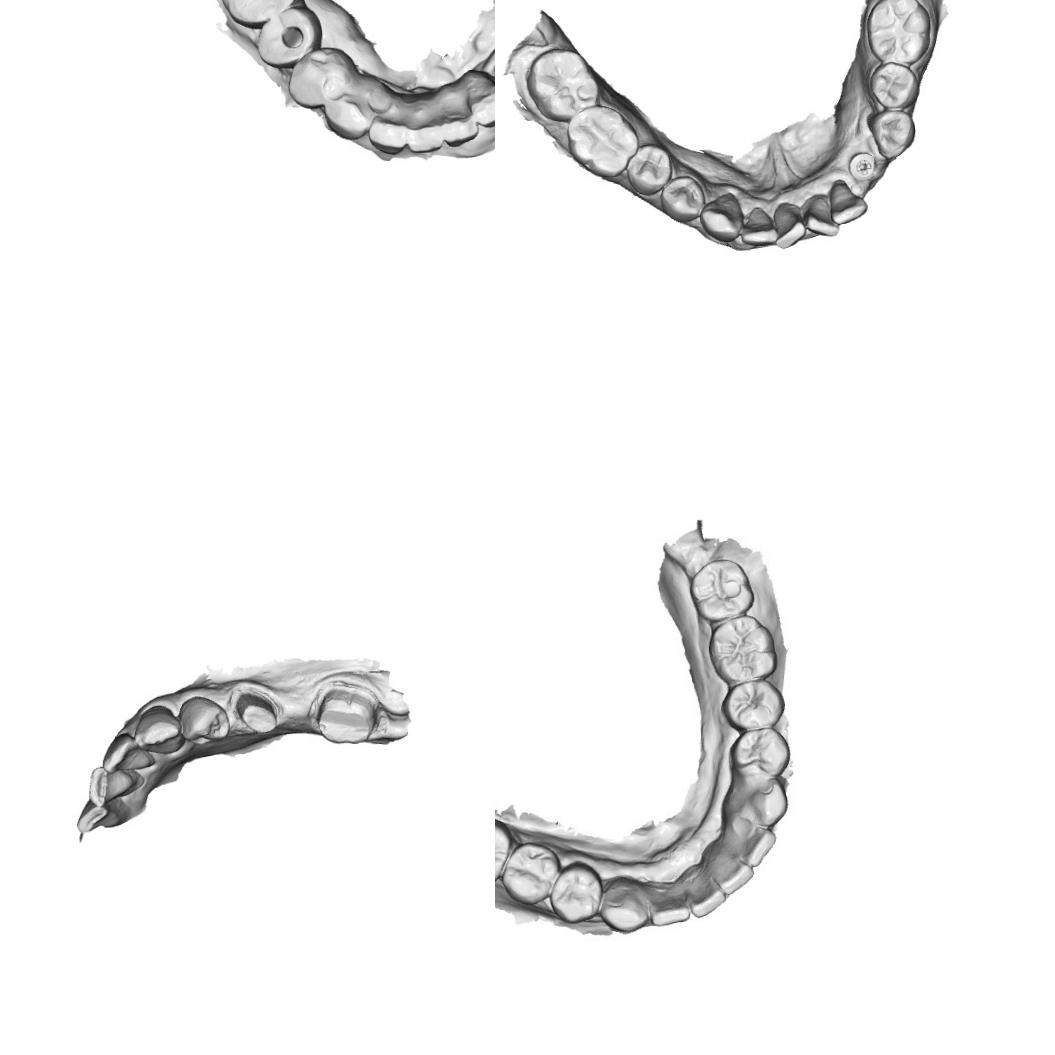canine: (733, 774, 794, 831), (602, 872, 648, 938), (320, 91, 376, 144), (130, 703, 185, 756), (696, 190, 744, 244)
crown: (306, 677, 380, 747), (228, 683, 280, 736)
implant_plus: (848, 151, 876, 182)
incisor: (718, 815, 778, 868), (84, 764, 144, 808), (100, 731, 156, 775), (707, 848, 750, 894), (827, 179, 869, 226), (650, 884, 690, 933), (686, 868, 726, 917), (802, 192, 841, 240), (75, 796, 124, 834), (366, 114, 408, 155), (738, 205, 780, 246), (771, 201, 806, 250), (402, 122, 447, 156), (443, 112, 478, 152), (473, 88, 495, 130)
molar: (526, 46, 602, 124), (564, 102, 640, 179), (706, 613, 781, 686), (863, 0, 933, 67), (691, 554, 754, 626), (214, 0, 303, 29)
premolar: (284, 46, 352, 111), (254, 5, 324, 68), (721, 679, 790, 734), (546, 864, 601, 920), (623, 142, 674, 198), (177, 694, 230, 746), (504, 844, 556, 897), (867, 60, 921, 110), (732, 728, 790, 774), (868, 108, 918, 161), (658, 173, 706, 224)
